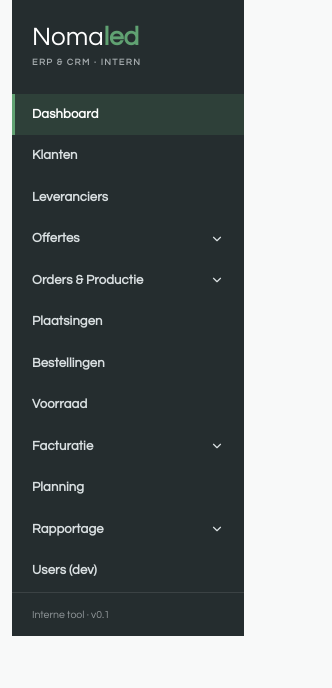
Test case: Sidebar › expands the 'Offertes' submenu on click, revealing 'Alle offertes'
This screenshot has width=332, height=688.
Click the button "Offertes": (128, 239) [12,218,244,260]
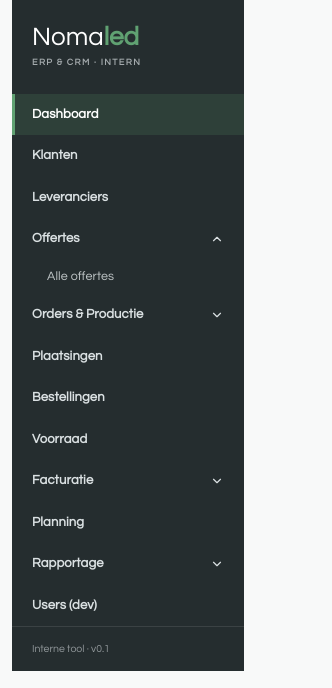
Check: the button "Offertes" is expanded, box [12,218,244,260]
